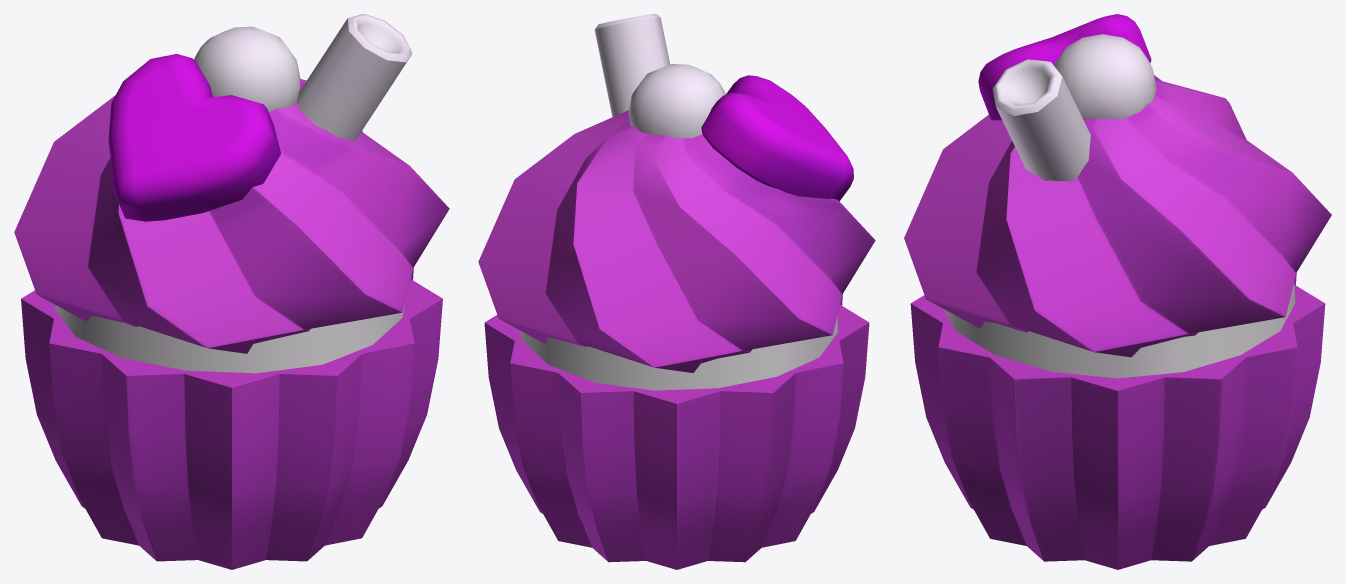
Rendered from model_IceCream_Cup.fbx.
3 renders of one model, left to right at view 1: azimuth 30°, elevation 25°; view 2: azimuth 150°, elevation 25°; view 3: azimuth 270°, elevation 25°, orthographic. The views are drawn at different scales.
Parts seen in each view (by area): view 1: model_IceCream_Cup; view 2: model_IceCream_Cup; view 3: model_IceCream_Cup.
Boxes of the visible parts, x1,y1,x2,y2 form: model_IceCream_Cup: [14, 14, 449, 569]; model_IceCream_Cup: [478, 14, 875, 569]; model_IceCream_Cup: [904, 14, 1331, 569].
Size of the model in its own units: 45.33 by 58.6 by 46.72.
